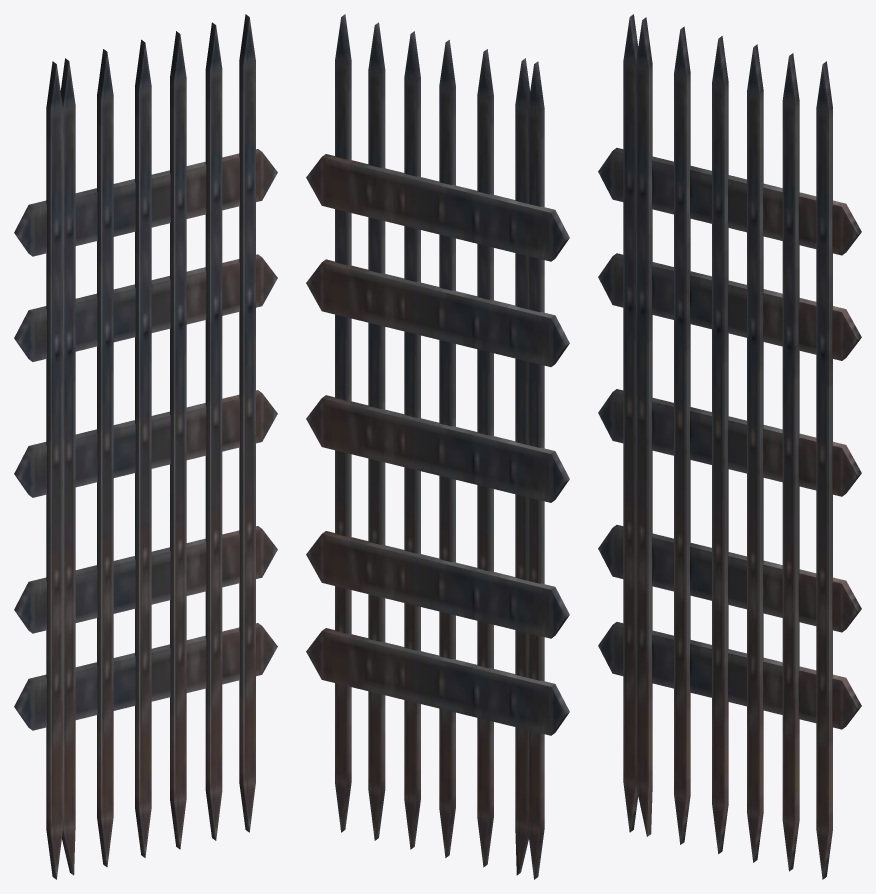
Rendered from castleGate (6).fbx.
3 views of the same model, side by side, from view 1: azimuth 30°, elevation 25°; view 2: azimuth 150°, elevation 25°; view 3: azimuth 330°, elevation 25° (orthographic).
Parts seen in each view (by area): view 1: castleGate (6); view 2: castleGate (6); view 3: castleGate (6).
Boxes of the visible parts, bbox=[...] form: castleGate (6): bbox=[14, 14, 277, 879]; castleGate (6): bbox=[306, 14, 569, 879]; castleGate (6): bbox=[598, 14, 861, 879].
Bounding box in the file's own units: 4.29 × 12.87 × 0.2192.
